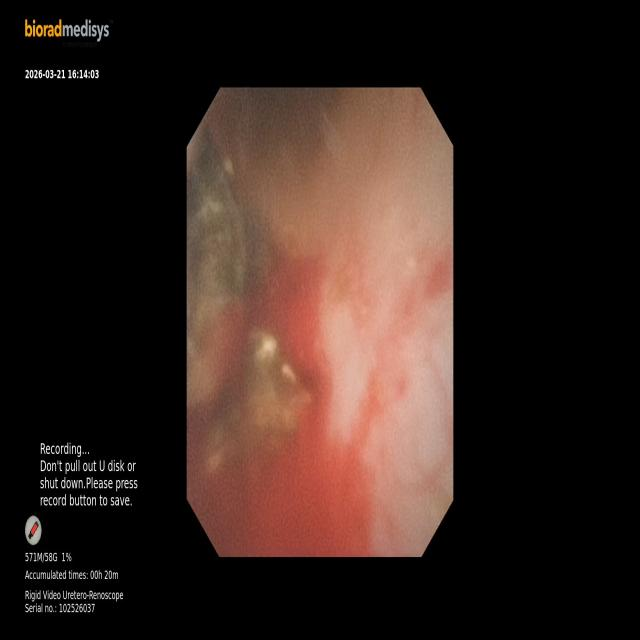stone-new: (187, 145, 263, 407), (207, 328, 311, 472)
